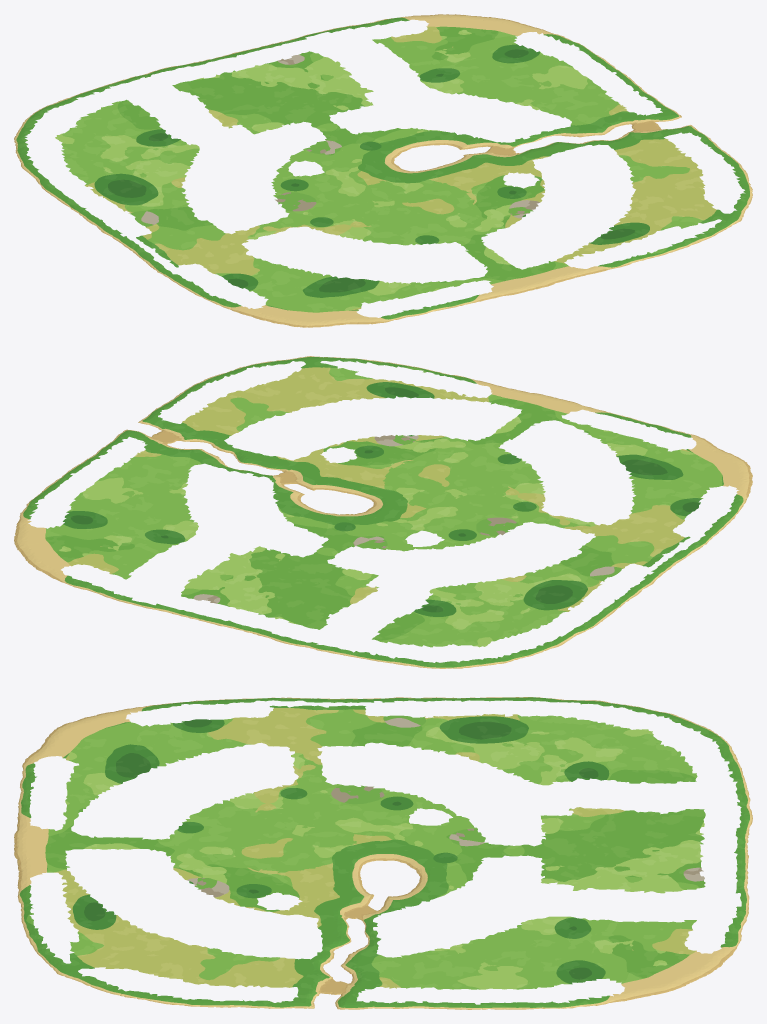
The model's file is Map-5-Ground.fbx.
3 renders of one model, top to bottom at view 1: azimuth 30°, elevation 25°; view 2: azimuth 150°, elevation 25°; view 3: azimuth 270°, elevation 25°, orthographic. The views are drawn at different scales.
Parts seen in each view (by area): view 1: Map-5-Ground-c11, Map-5-Ground-c21, Map-5-Ground-c32, Map-5-Ground-c02, Map-5-Ground-c01, Map-5-Ground-c31, Map-5-Ground-c13, Map-5-Ground-c23, Map-5-Ground-c12, Map-5-Ground-c00, Map-5-Ground-c22, Map-5-Ground-c33 (+4 smaller); view 2: Map-5-Ground-c11, Map-5-Ground-c21, Map-5-Ground-c32, Map-5-Ground-c02, Map-5-Ground-c01, Map-5-Ground-c31, Map-5-Ground-c13, Map-5-Ground-c23, Map-5-Ground-c12, Map-5-Ground-c33, Map-5-Ground-c00, Map-5-Ground-c22 (+4 smaller); view 3: Map-5-Ground-c11, Map-5-Ground-c21, Map-5-Ground-c32, Map-5-Ground-c02, Map-5-Ground-c31, Map-5-Ground-c01, Map-5-Ground-c13, Map-5-Ground-c23, Map-5-Ground-c33, Map-5-Ground-c12, Map-5-Ground-c22, Map-5-Ground-c00 (+4 smaller).
Boxes of the visible parts, x1,y1,x2,y2 form: Map-5-Ground-c11: [262, 169, 471, 245]; Map-5-Ground-c21: [385, 134, 560, 232]; Map-5-Ground-c32: [449, 40, 661, 124]; Map-5-Ground-c02: [29, 142, 194, 236]; Map-5-Ground-c01: [112, 216, 310, 299]; Map-5-Ground-c31: [537, 103, 742, 193]; Map-5-Ground-c13: [81, 55, 299, 142]; Map-5-Ground-c23: [228, 20, 448, 105]; Map-5-Ground-c12: [150, 106, 384, 196]; Map-5-Ground-c00: [206, 272, 391, 327]; Map-5-Ground-c22: [300, 70, 495, 169]; Map-5-Ground-c33: [380, 14, 571, 69]; Map-5-Ground-c11: [386, 446, 572, 536]; Map-5-Ground-c21: [238, 435, 471, 509]; Map-5-Ground-c32: [26, 443, 199, 536]; Map-5-Ground-c02: [448, 556, 657, 639]; Map-5-Ground-c01: [561, 486, 737, 577]; Map-5-Ground-c31: [110, 382, 309, 471]; Map-5-Ground-c13: [226, 572, 447, 661]; Map-5-Ground-c23: [80, 536, 297, 626]; Map-5-Ground-c12: [299, 510, 495, 609]; Map-5-Ground-c33: [14, 507, 149, 588]; Map-5-Ground-c00: [629, 434, 752, 512]; Map-5-Ground-c22: [150, 483, 385, 572]; Map-5-Ground-c11: [181, 766, 382, 851]; Map-5-Ground-c21: [181, 850, 382, 936]; Map-5-Ground-c32: [380, 935, 582, 1009]; Map-5-Ground-c02: [381, 697, 581, 766]; Map-5-Ground-c31: [181, 935, 382, 1009]; Map-5-Ground-c01: [181, 697, 382, 766]; Map-5-Ground-c13: [580, 766, 752, 852]; Map-5-Ground-c23: [580, 850, 749, 936]; Map-5-Ground-c33: [580, 935, 741, 1006]; Map-5-Ground-c12: [381, 766, 581, 851]; Map-5-Ground-c22: [380, 850, 581, 935]; Map-5-Ground-c00: [22, 702, 183, 768].
Size of the model in its own units: 186 by 0.49 by 185.
